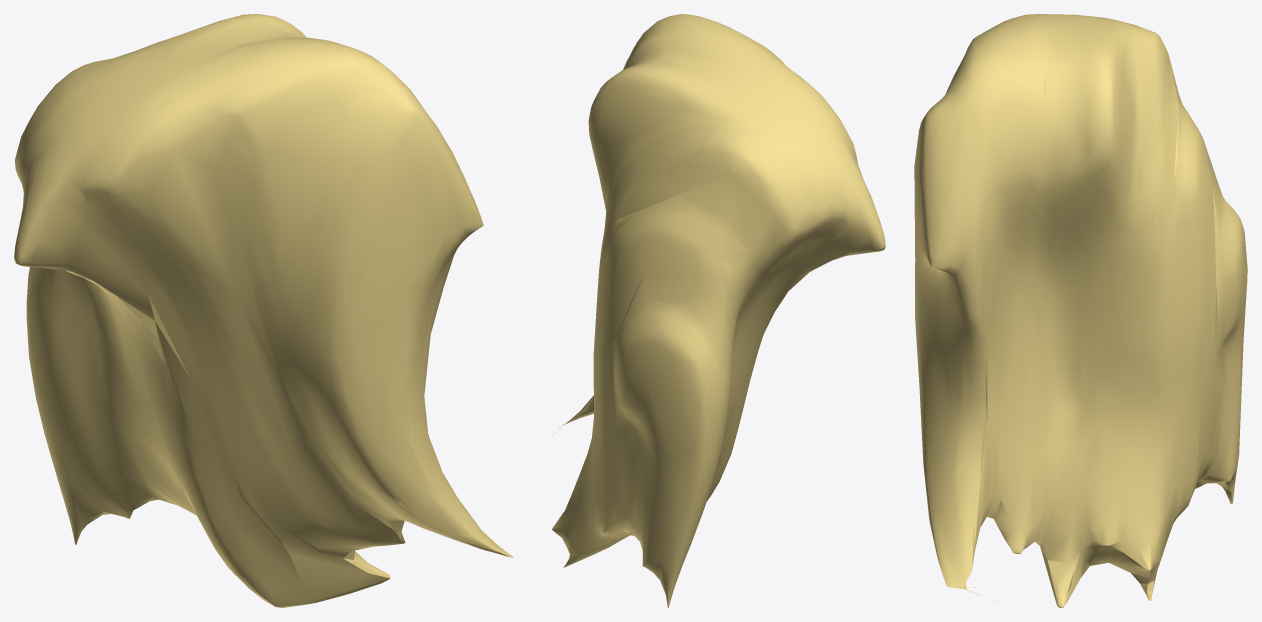
The model's file is fma73079_fj7559m.glb.
3 renders of one model, left to right at view 1: azimuth 30°, elevation 25°; view 2: azimuth 150°, elevation 25°; view 3: azimuth 270°, elevation 25°, orthographic. The views are drawn at different scales.
Parts seen in each view (by area): view 1: FMA73079_FJ7559M; view 2: FMA73079_FJ7559M; view 3: FMA73079_FJ7559M.
Part boxes in pixels (x1=…): FMA73079_FJ7559M: x1=14, y1=14, x2=513, y2=607; FMA73079_FJ7559M: x1=552, y1=14, x2=885, y2=607; FMA73079_FJ7559M: x1=914, y1=14, x2=1247, y2=607.
Bounding box in the file's own units: 0.0139 × 0.018 × 0.0104.
